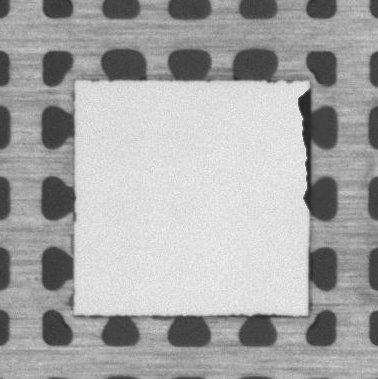DIE_BROKEN: (295, 87, 313, 210)
